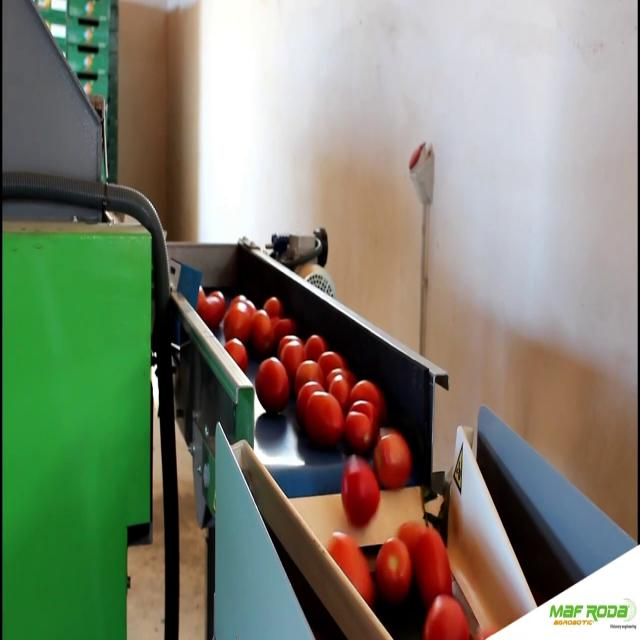Tomato: (328, 536, 374, 600), (339, 456, 379, 528), (414, 528, 451, 604), (373, 432, 411, 500), (306, 396, 344, 450), (375, 542, 411, 596), (426, 599, 468, 640), (255, 359, 288, 409), (352, 379, 381, 417), (346, 407, 372, 449), (223, 300, 250, 338), (281, 333, 303, 375), (223, 338, 247, 375), (202, 288, 224, 325), (295, 360, 325, 384), (250, 310, 270, 340), (308, 331, 325, 362), (264, 296, 284, 318), (333, 376, 348, 402), (299, 386, 318, 404)
